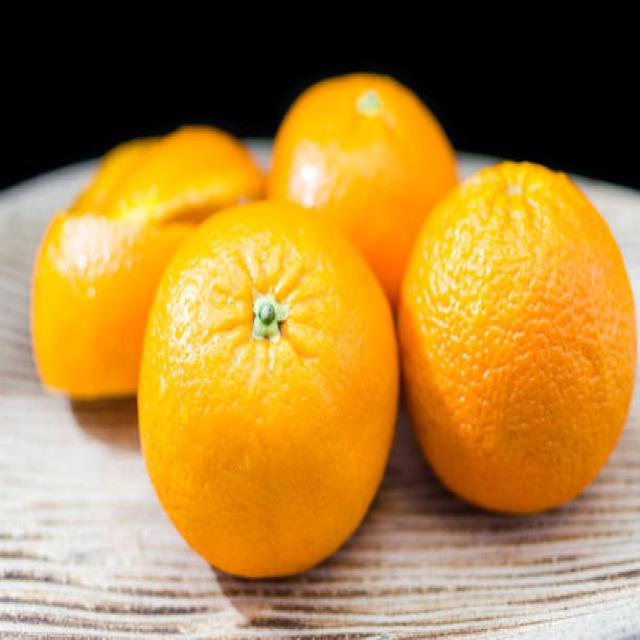Ripe: (138, 198, 400, 583), (400, 164, 639, 516)
